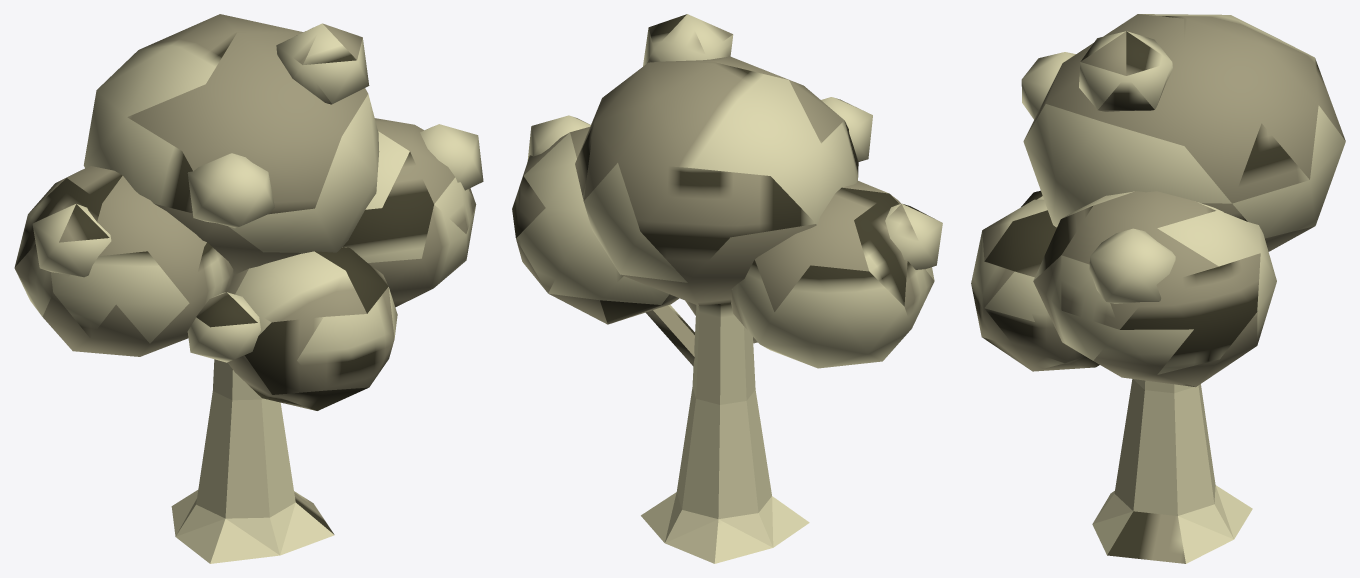
The model's file is tree_v1.fbx.
3 views of the same model, side by side, from view 1: azimuth 30°, elevation 25°; view 2: azimuth 150°, elevation 25°; view 3: azimuth 270°, elevation 25° (orthographic). The views are drawn at different scales.
Visible parts, largest first — view 1: prop; view 2: prop; view 3: prop.
Boxes of the visible parts, x1,y1,x2,y2 form: prop: [14, 14, 483, 563]; prop: [512, 14, 942, 563]; prop: [971, 14, 1345, 563].
Size of the model in its own units: 1.51 by 1.69 by 1.1.
